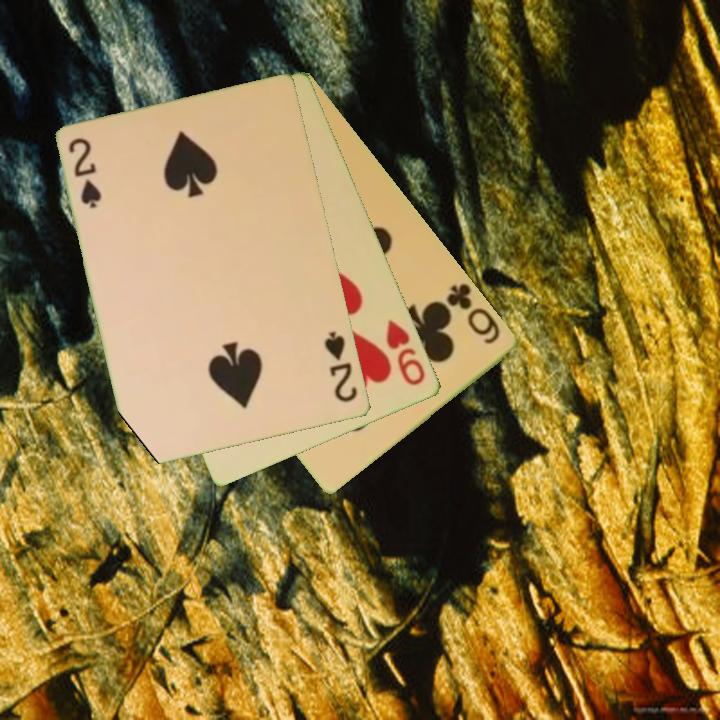2s: (321, 328, 361, 406), (65, 134, 105, 212)
6c: (443, 280, 504, 348)
9h: (383, 316, 429, 389)
